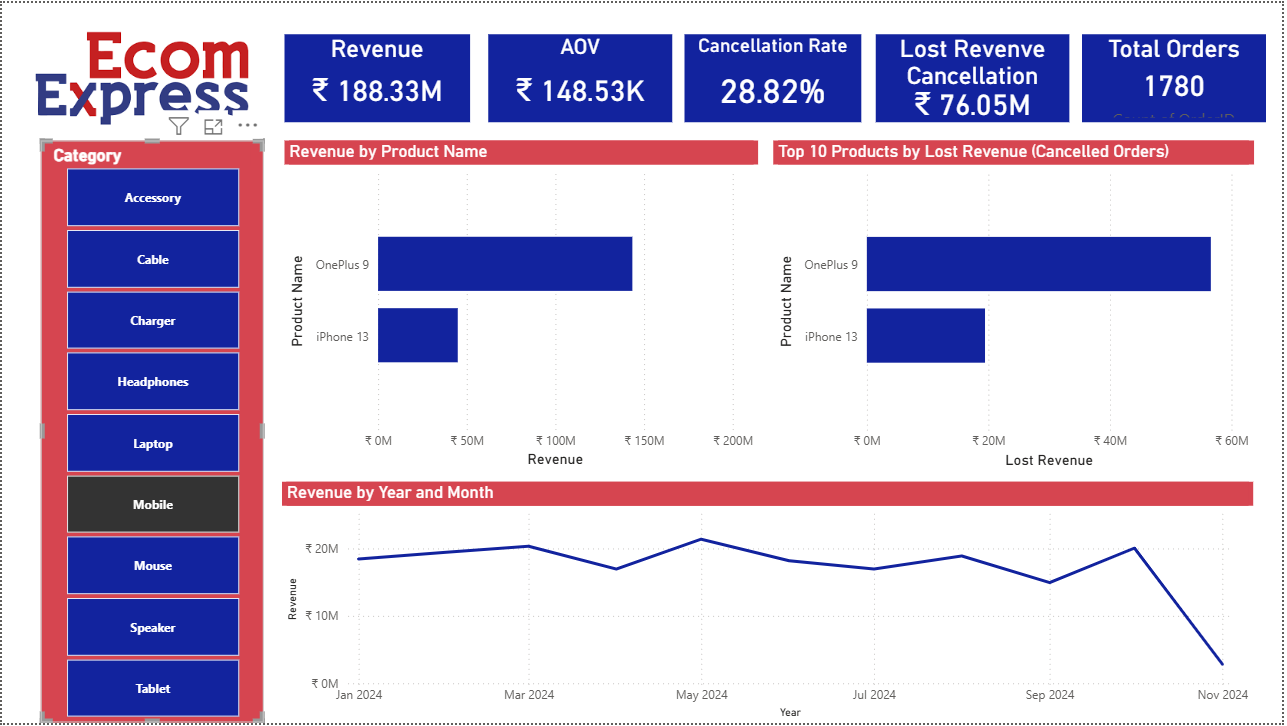

The dashboard page shown, as its layout file describes it:
{"tool":"powerbi","page":{"name":"Page 1","canvas":[1280,720],"ordinal":0},"visuals":[{"type":"image","box":[0,13.7,279.9,123.5],"z":0},{"type":"barChart","fields":{"Y":["table.Revenue"],"Category":["Product.Product Name"]},"box":[282.7,137.2,473.4,332.1],"z":1000},{"type":"barChart","title":"Top 10 Products by Lost Revenue (Cancelled Orders)","fields":{"Category":["Product.Product Name"],"Y":["table.lost_rev_cancellation"]},"box":[770.8,137.3,480.4,332.6],"z":2000},{"type":"lineChart","fields":{"Y":["table.Revenue"],"Category":["Orders.Date and time of purchase.Variation.Date Hierarchy.Year","Orders.Date and time of purchase.Variation.Date Hierarchy.Month"]},"box":[279.9,478.9,971.5,241.5],"z":3000},{"type":"card","title":"Revenue","fields":{"Values":["table.Revenue"]},"box":[282.7,31.6,185.2,87.8],"z":4000},{"type":"card","title":"Total Orders","fields":{"Values":["CountNonNull(Orders.OrderID)"]},"box":[1079.9,31.6,183.9,87.8],"z":5000},{"type":"card","title":"AOV","fields":{"Values":["table.AOV"]},"box":[485.8,31.6,183.9,87.8],"z":6000},{"type":"card","title":"Cancellation Rate","fields":{"Values":["table.Cancellation Rate"]},"box":[682,31.6,177,87.8],"z":7000},{"type":"card","title":"Lost Revenve Cancellation","fields":{"Values":["table.lost_rev_cancellation"]},"box":[874.1,31.6,193.5,87.8],"z":8000},{"type":"slicer","fields":{"Values":["Product.Category"]},"box":[38.4,137.2,222.3,583.2],"z":9000}]}

Visuals, with their boxes on the page's 1280x720 design canvas (x1, y1, x2, y2). These are canvas units, not pixel positions in the 1287x726 screenshot, which may show the page scaled, cropped or inside an application window:
image: region(0, 14, 280, 137)
barChart - table.Revenue x Product.Product Name: region(283, 137, 756, 469)
"Top 10 Products by Lost Revenue (Cancelled Orders)" barChart: region(771, 137, 1251, 470)
lineChart - table.Revenue x Orders.Date and time of purchase.Variation.Date Hierarchy.Year: region(280, 479, 1251, 720)
"Revenue" card: region(283, 32, 468, 119)
"Total Orders" card: region(1080, 32, 1264, 119)
"AOV" card: region(486, 32, 670, 119)
"Cancellation Rate" card: region(682, 32, 859, 119)
"Lost Revenve Cancellation" card: region(874, 32, 1068, 119)
slicer - Product.Category: region(38, 137, 261, 720)
